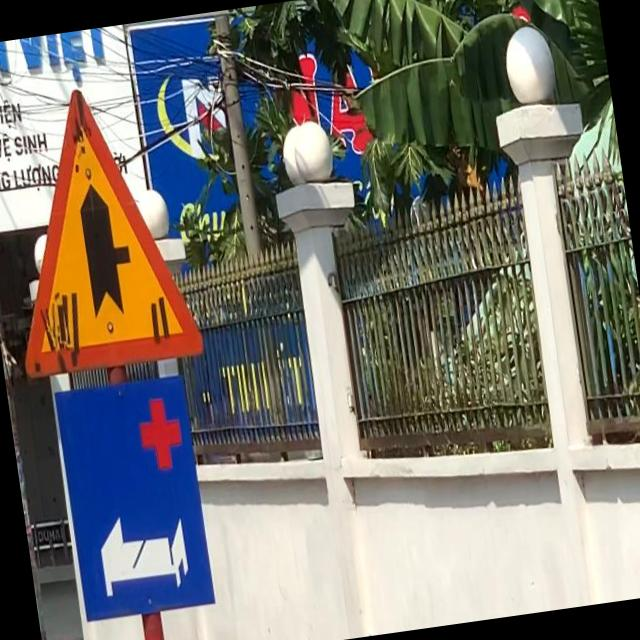I-425: (51, 372, 214, 620)
W-207b: (0, 77, 203, 376)
